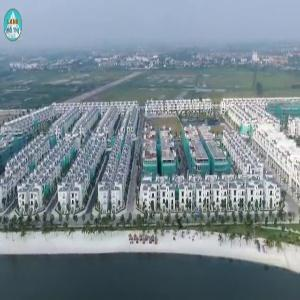drone: (164, 207, 199, 242)
